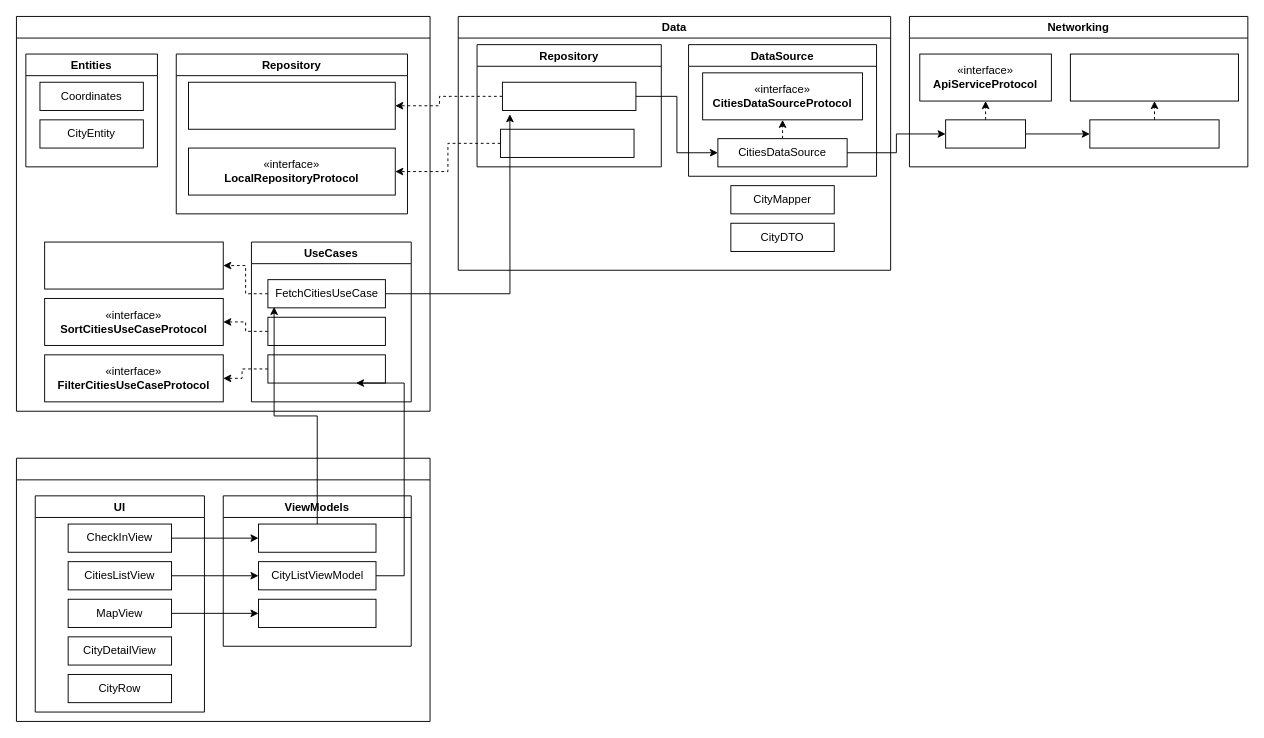
The diagram is 1264 pixels wide and 738 high, and some of its shapes have lost their labels. Here are the shapes that lost their labels. From the top down, the box of each, then its label:
(501, 81, 636, 110): CitiesRemoteRepository
(1069, 53, 1238, 101): «interface» ApiRequestManagerProtocol
(188, 81, 395, 129): «interface» RemoteRepositoryProtocol
(500, 128, 634, 157): CitiesLocal Repository
(945, 119, 1026, 148): ApiService
(1089, 119, 1219, 148): ApiRequestManager
(16, 16, 430, 411): Domain
(44, 241, 223, 289): «interface» FetchCitiesUseCaseProtocol
(267, 316, 385, 345): SortCitiesUseCase
(267, 354, 385, 383): FilterCitiesUseCase
(258, 523, 376, 552): CheckInViewModel
(16, 457, 430, 721): Presentation
(258, 598, 376, 627): MapViewModel
